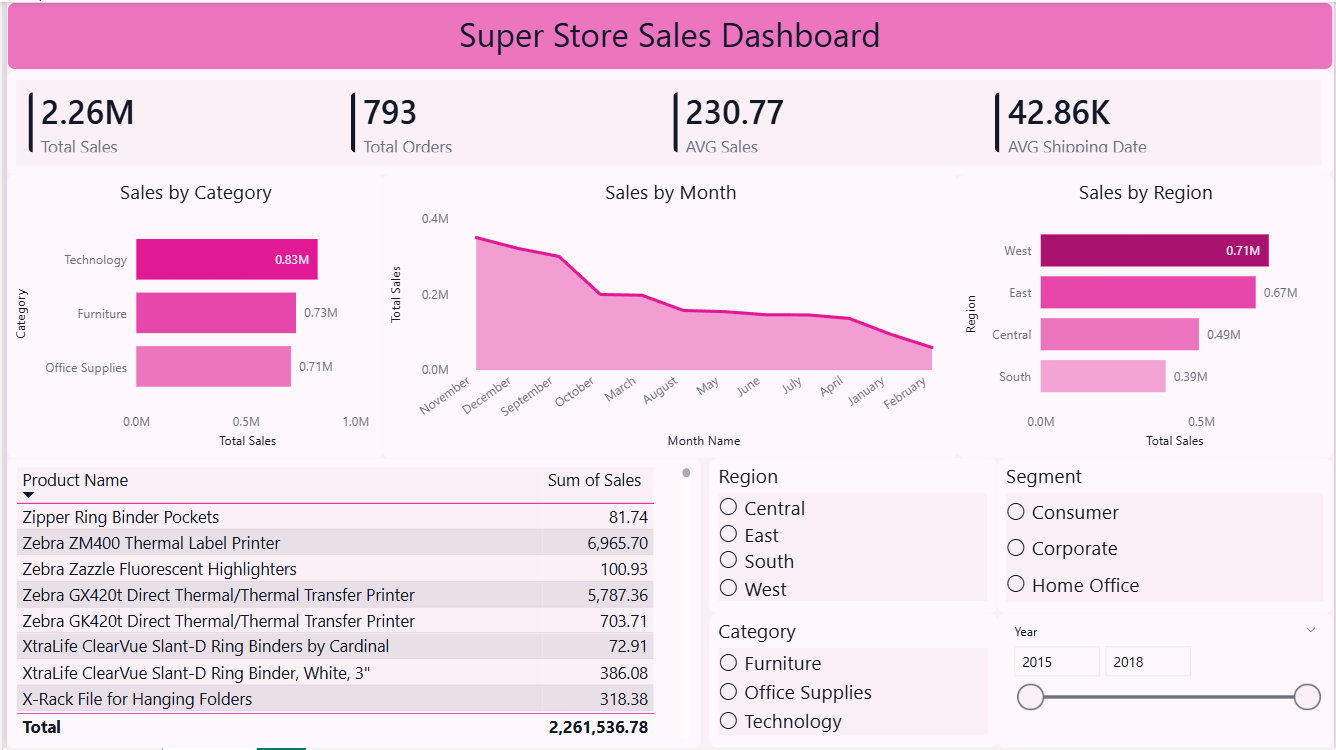

The page's visual inventory and layout, read from the dashboard file:
{"tool":"powerbi","page":{"name":"Page 1","canvas":[1280,720],"ordinal":0},"visuals":[{"type":"shape","box":[0,0,1280,65.4],"z":0},{"type":"textbox","box":[0,0,1280,65.4],"z":1000},{"type":"cardVisual","fields":{"Data":["superstore_sales.Total Sales","superstore_sales.Total Orders","superstore_sales.AVG Sales","superstore_sales.AVG Shipping Date"]},"box":[0,66.4,1280,100.1],"z":2000},{"type":"shape","box":[362.1,165.9,555.5,233.7],"z":3000},{"type":"shape","box":[0,165.9,362.1,233.7],"z":4000},{"type":"lineChart","title":"Sales by Month","fields":{"Category":["superstore_sales.Month Name"],"Y":["superstore_sales.Total Sales"]},"box":[361.9,166.5,556.2,273.9],"z":5000},{"type":"barChart","title":"Sales by Category","fields":{"Category":["superstore_sales.Category"],"Y":["superstore_sales.Total Sales"]},"box":[0,166.5,363.1,273.9],"z":6000},{"type":"shape","box":[917.3,166.4,362.7,234.7],"z":7000},{"type":"clusteredBarChart","title":"Sales by Region","fields":{"Category":["superstore_sales.Region"],"Y":["superstore_sales.Total Sales"]},"box":[916.9,166.5,363.1,273.9],"z":8000},{"type":"tableEx","fields":{"Values":["superstore_sales.Product Name","Sum(superstore_sales.Sales)"]},"box":[0,440.4,669.6,279.9],"z":9000},{"type":"slicer","fields":{"Values":["superstore_sales.Year"]},"box":[955.7,590.2,324.3,129.4],"z":10000},{"type":"listSlicer","fields":{"Values":["superstore_sales.Region"]},"box":[678.4,440.9,277.3,149.3],"z":11000},{"type":"listSlicer","fields":{"Values":["superstore_sales.Category"]},"box":[678.4,590.2,278.8,129.4],"z":12000},{"type":"listSlicer","fields":{"Values":["superstore_sales.Segment"]},"box":[955.7,440.9,324.3,149.3],"z":13000}]}

Visuals, with their boxes in screenshot pixels (x1, y1, x2, y2), scaled from the page's 1280x720 canvas onto the 1336x750 screenshot:
shape: x1=0, y1=0, x2=1335, y2=68
textbox: x1=0, y1=0, x2=1335, y2=68
cardVisual - superstore_sales.Total Sales x superstore_sales.Total Orders: x1=0, y1=69, x2=1335, y2=173
shape: x1=378, y1=173, x2=958, y2=416
shape: x1=0, y1=173, x2=378, y2=416
"Sales by Month" lineChart: x1=378, y1=173, x2=958, y2=459
"Sales by Category" barChart: x1=0, y1=173, x2=379, y2=459
shape: x1=957, y1=173, x2=1335, y2=418
"Sales by Region" clusteredBarChart: x1=957, y1=173, x2=1335, y2=459
tableEx - superstore_sales.Product Name x Sum(superstore_sales.Sales): x1=0, y1=459, x2=699, y2=749
slicer - superstore_sales.Year: x1=998, y1=615, x2=1335, y2=749
listSlicer - superstore_sales.Region: x1=708, y1=459, x2=998, y2=615
listSlicer - superstore_sales.Category: x1=708, y1=615, x2=999, y2=749
listSlicer - superstore_sales.Segment: x1=998, y1=459, x2=1335, y2=615
